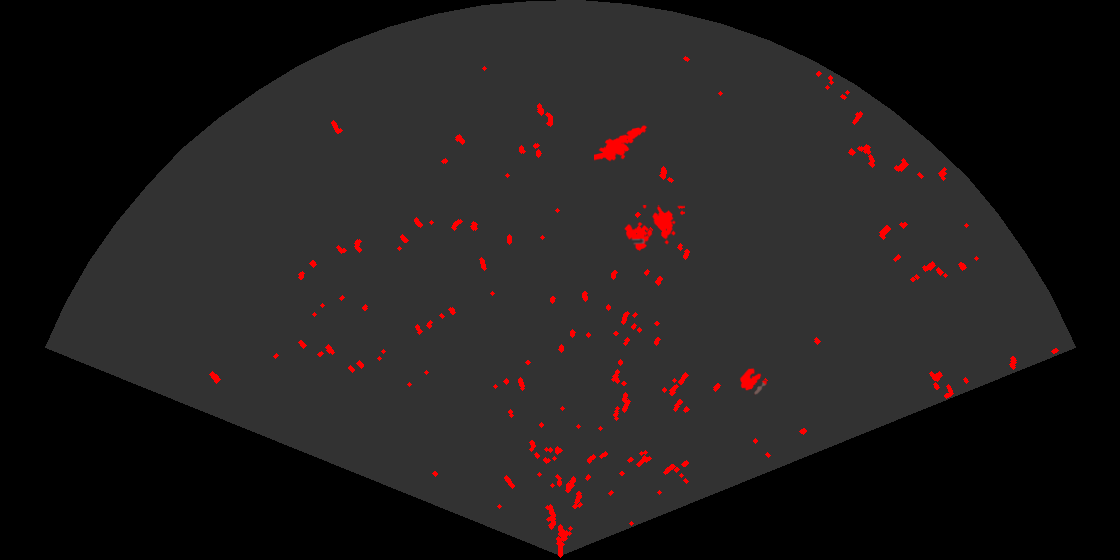ball: (738, 366, 768, 396)
cage: (623, 205, 685, 253)
frogman: (594, 124, 649, 163)
